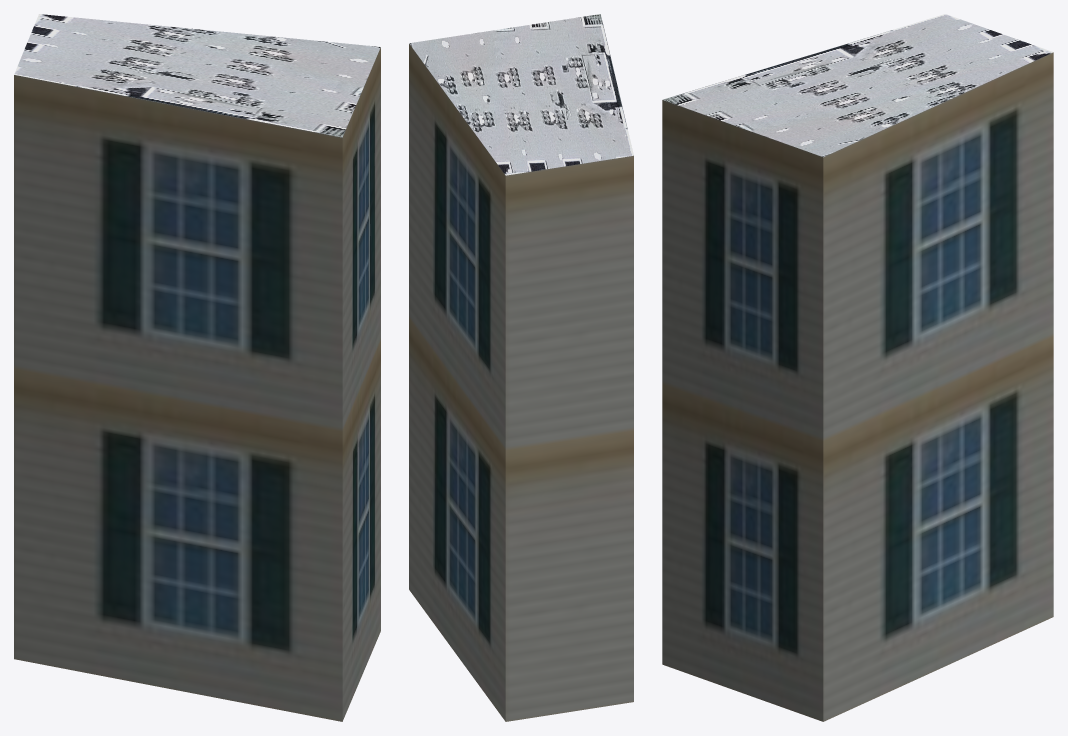
The model's file is ResTex__2289.fbx.
3 views of the same model, side by side, from view 1: azimuth 30°, elevation 25°; view 2: azimuth 150°, elevation 25°; view 3: azimuth 270°, elevation 25° (orthographic). The views are drawn at different scales.
Parts seen in each view (by area): view 1: CityEngineMaterial_7_m, CityEngineMaterial_4_m; view 2: CityEngineMaterial_7_m, CityEngineMaterial_4_m; view 3: CityEngineMaterial_7_m, CityEngineMaterial_4_m.
Part boxes in pixels (x1,y1,x2,y2): CityEngineMaterial_7_m: (14, 47, 380, 721); CityEngineMaterial_4_m: (14, 14, 380, 137); CityEngineMaterial_7_m: (409, 43, 633, 721); CityEngineMaterial_4_m: (409, 14, 633, 175); CityEngineMaterial_7_m: (662, 52, 1053, 721); CityEngineMaterial_4_m: (662, 14, 1053, 157).
Bounding box in the file's own units: 3.26 × 6 × 3.77.
2 materials, 2 textured.
